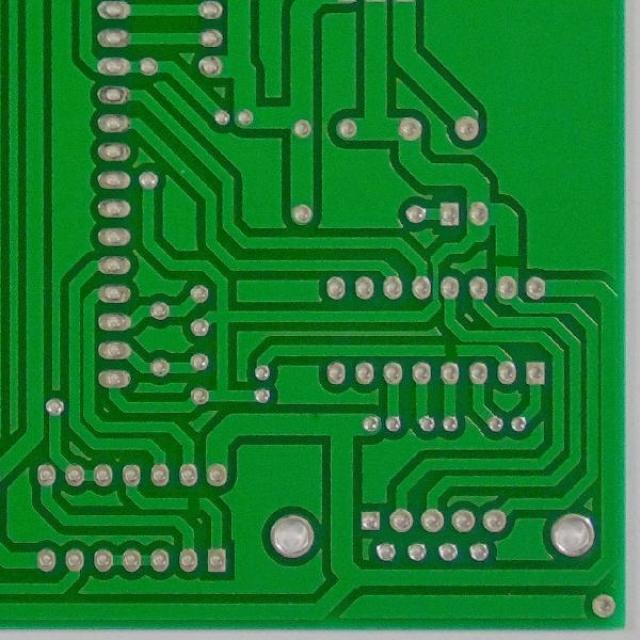open_circuit: (494, 249, 523, 272), (439, 340, 466, 361), (183, 495, 206, 516)
